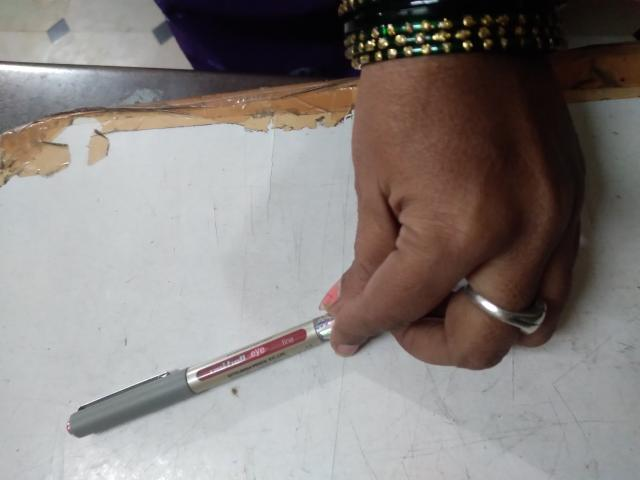PEN: (35, 305, 379, 458)
